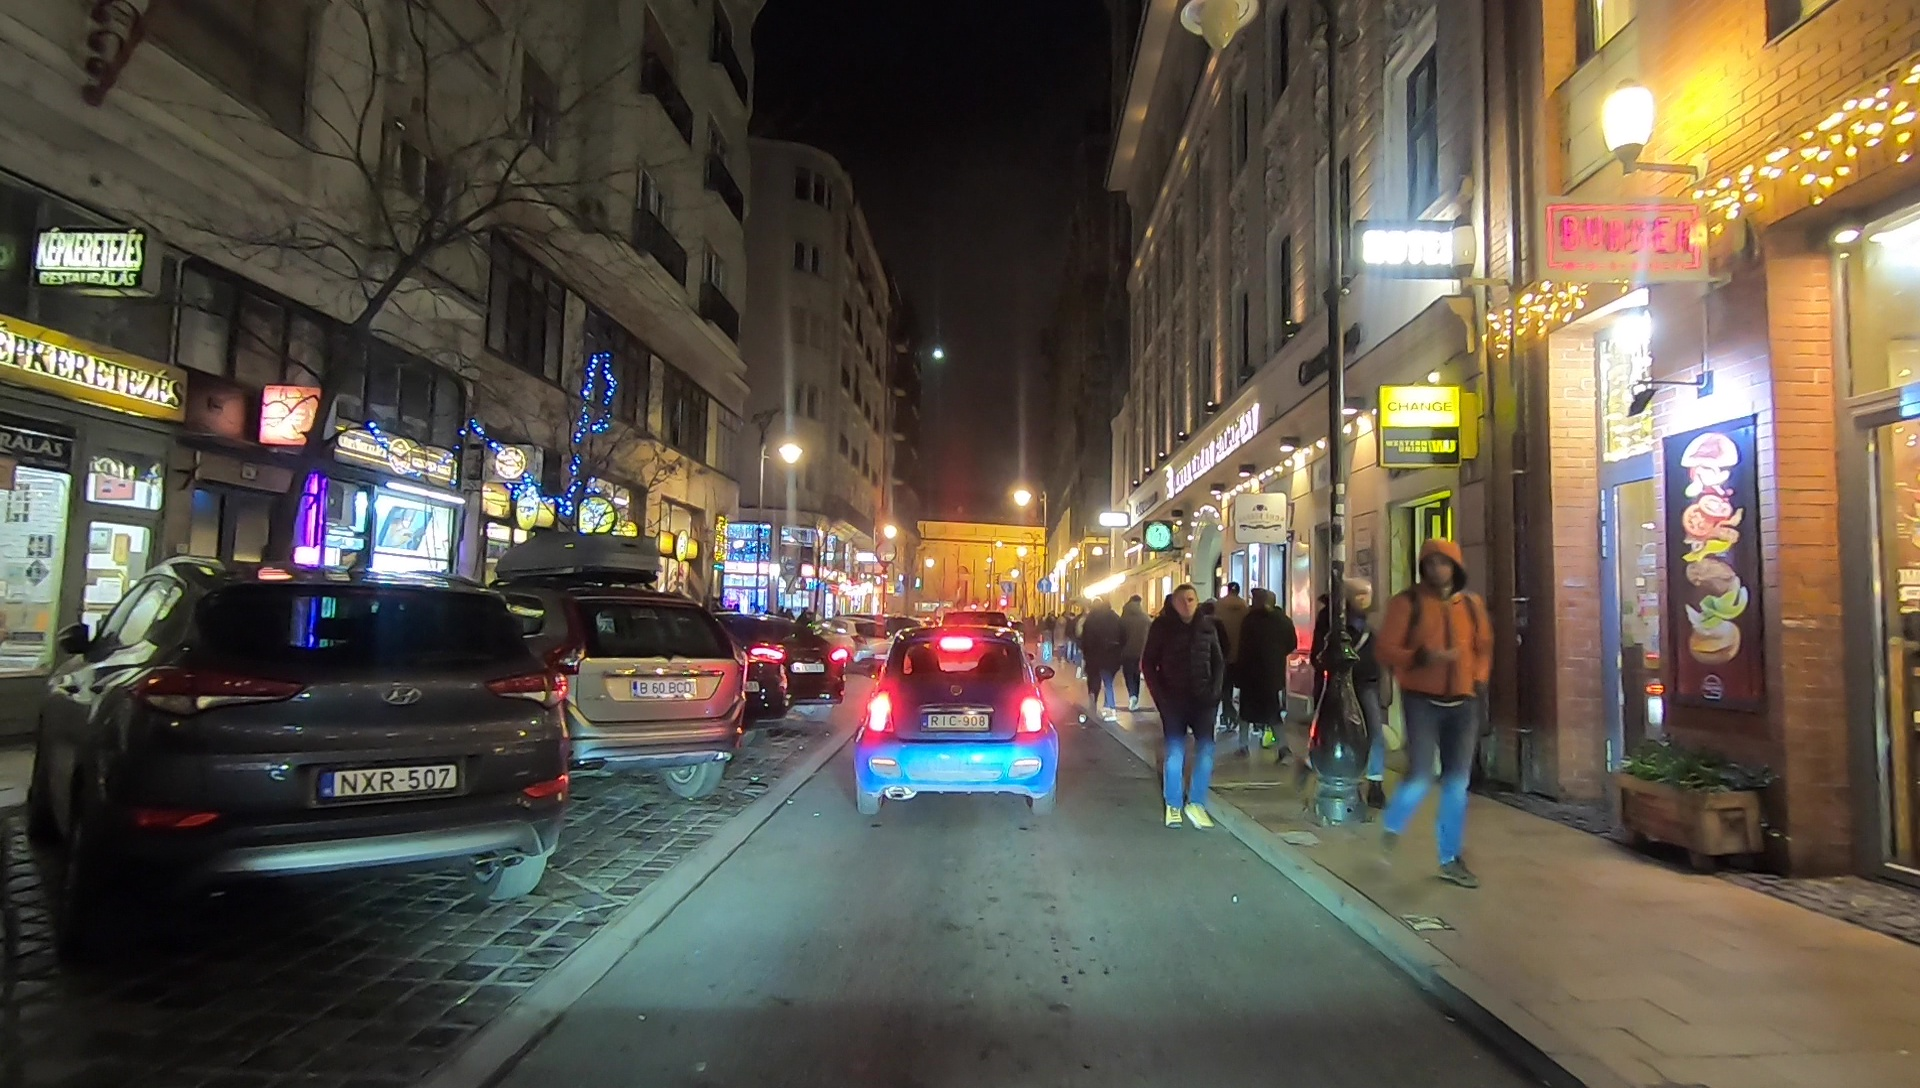person: (1391, 543, 1491, 886), (1160, 584, 1225, 824), (1326, 580, 1389, 793), (1236, 590, 1298, 765), (1209, 580, 1250, 726), (1085, 597, 1118, 723), (1118, 593, 1148, 709)
